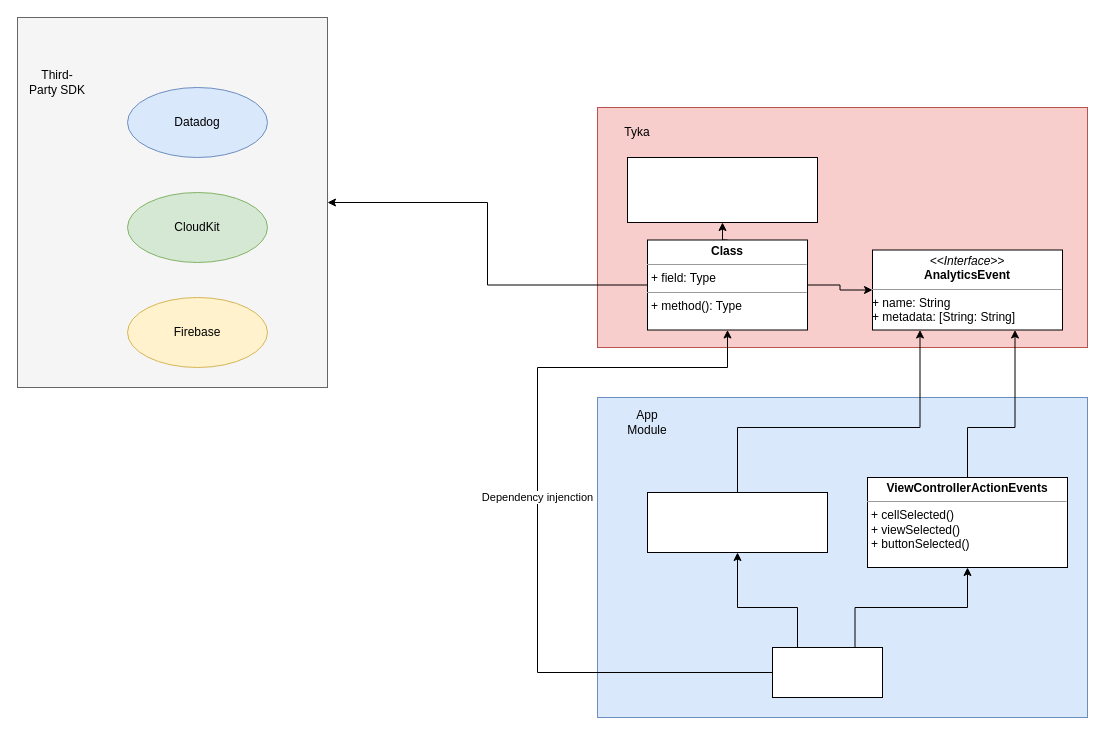
The diagram is 1105 pixels wide and 735 high, and some of its shapes have lost their labels. Here are the shapes that lost their labels. From the top down, the centre of each, then its label:
At (722,189): "<<Interface>> AnalyticsEngine + log: <AnalyticsEvents>".
At (737,522): "ViewControllerScreenEvents + screenViewed(): Type".
At (827,672): "Your ViewController".
